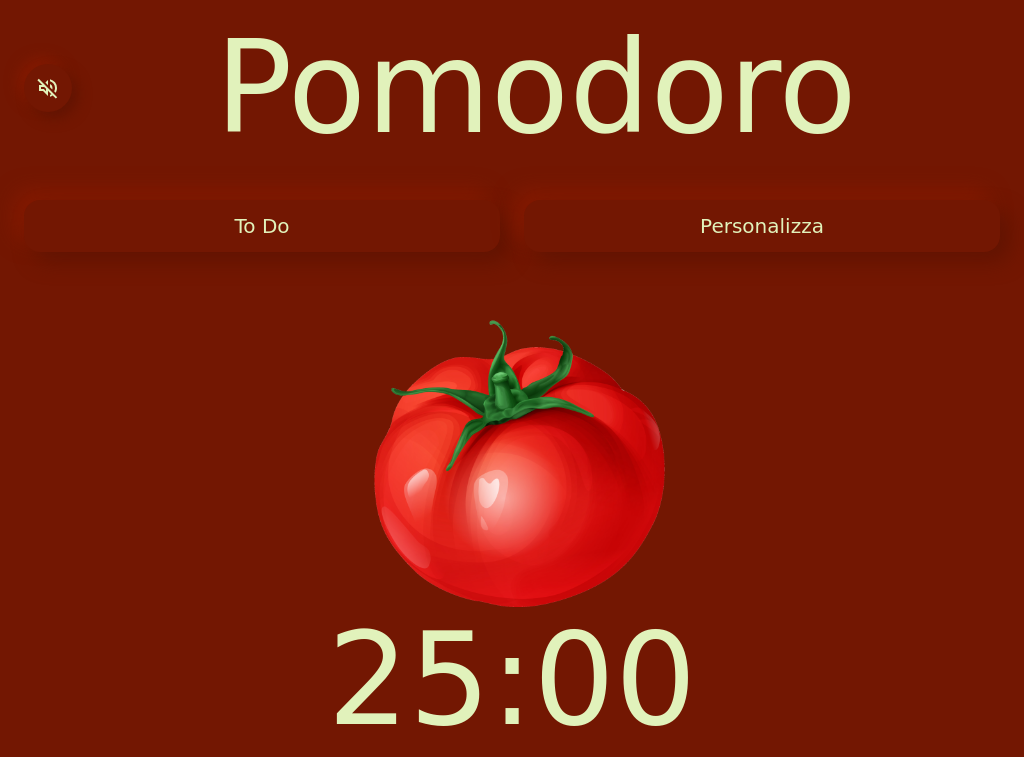
App › should show error message when entering invalid values
# Open modal
Click the button "Personalizza" at x=762, y=226, box [524,200,1000,252]
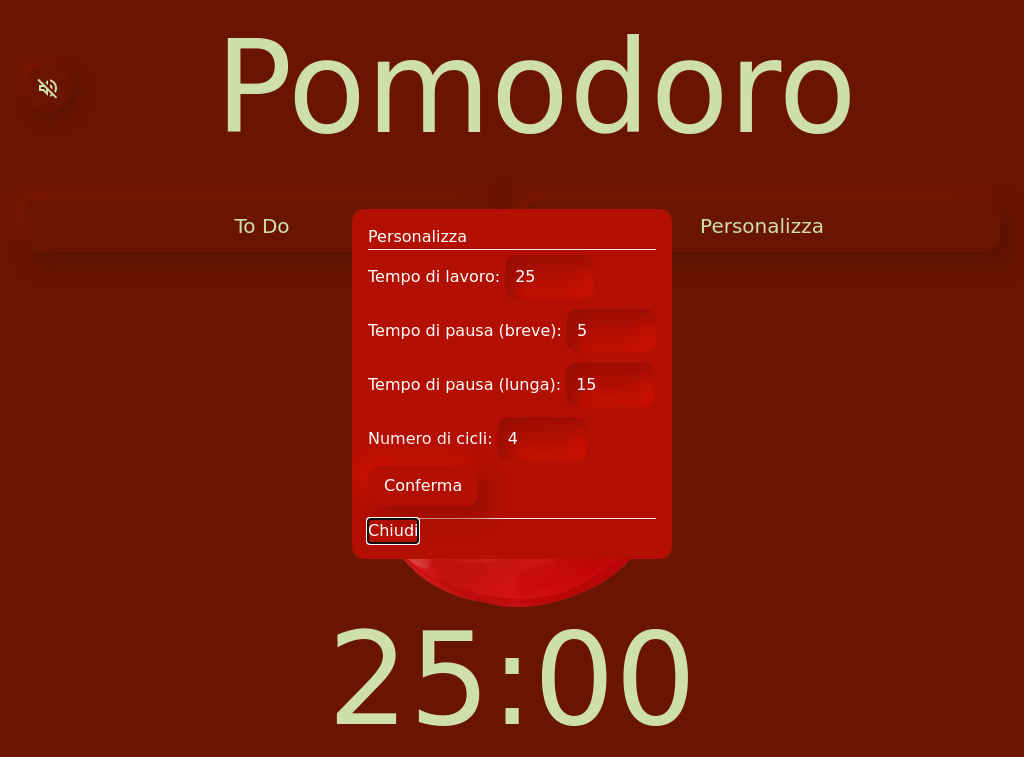
Replace the text in the number field next to "Tempo di lavoro:" with "100" at x=550, y=277, box [505,255,594,299]
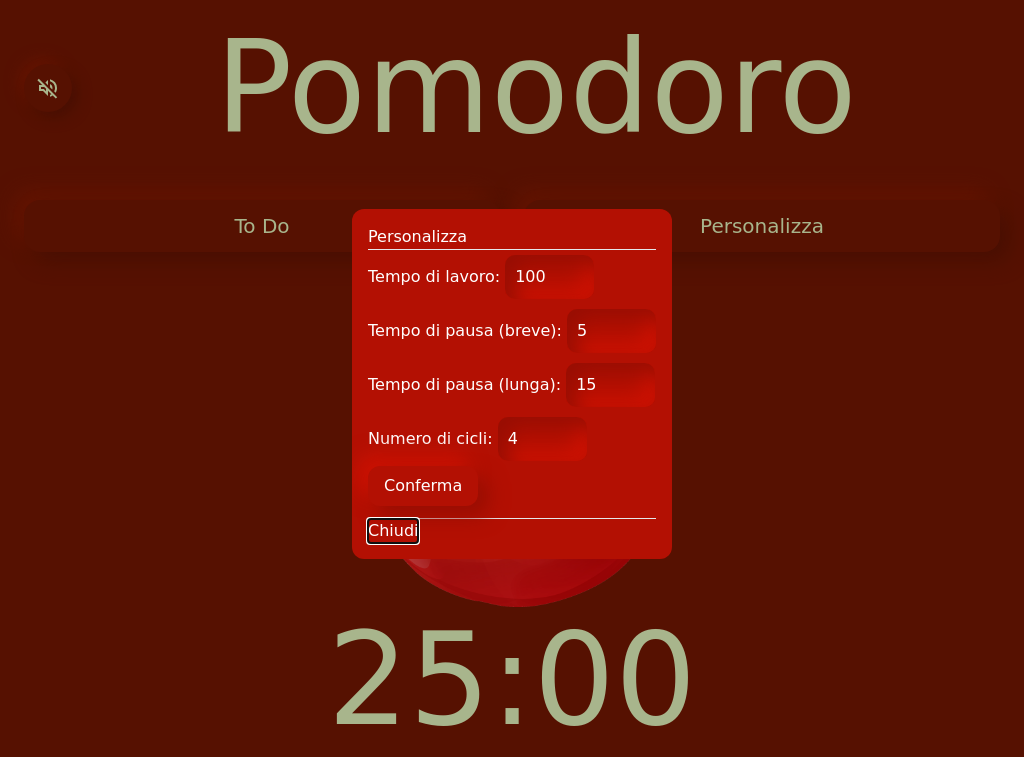
# Click Confirm
Click the button "Conferma" at x=423, y=486, box [368,466,478,506]
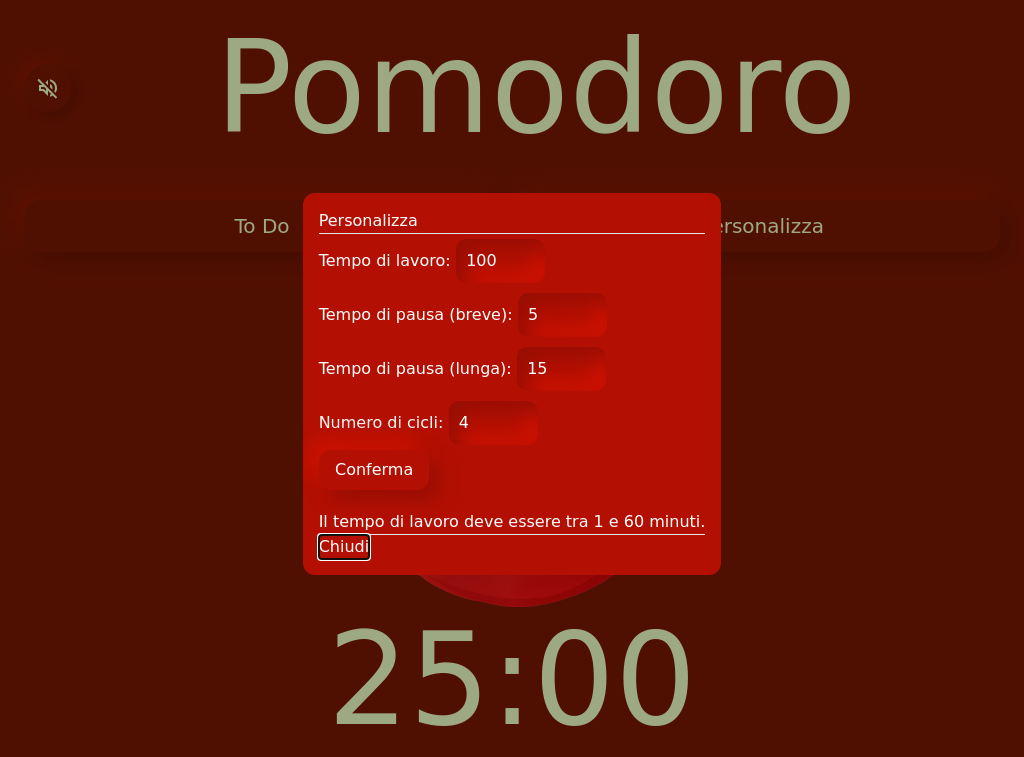
Expected: the button "Conferma" is shown, [319,450,429,490]
Expected: the text "Il tempo di lavoro deve essere tra 1 e 60 minuti." is shown, [319,510,705,534]
